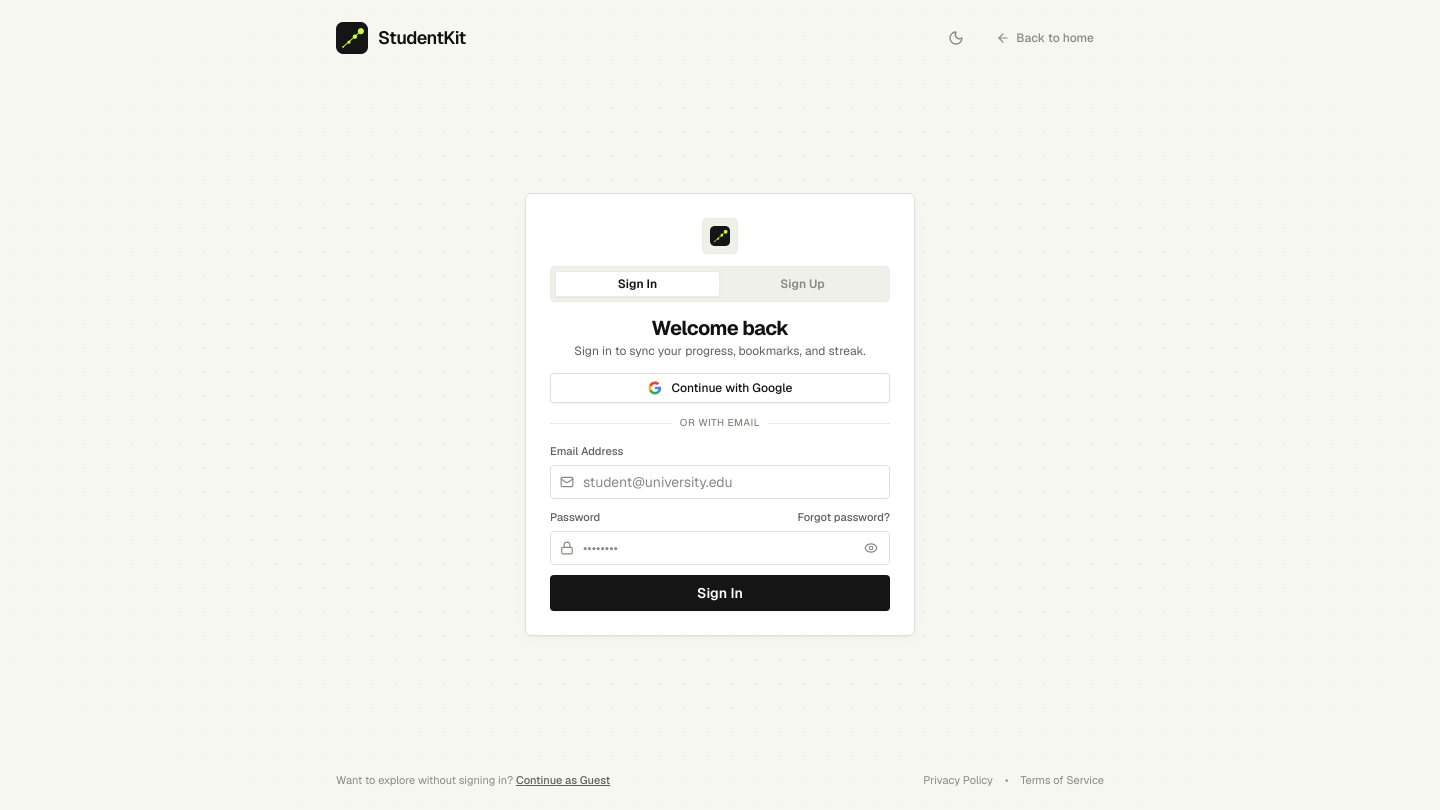
Test case: LoginForm Component › switches to forgot password mode and back
This screenshot has width=1440, height=810.
Click the button "Forgot password?".
click(844, 518)  # box [797,509,890,527]
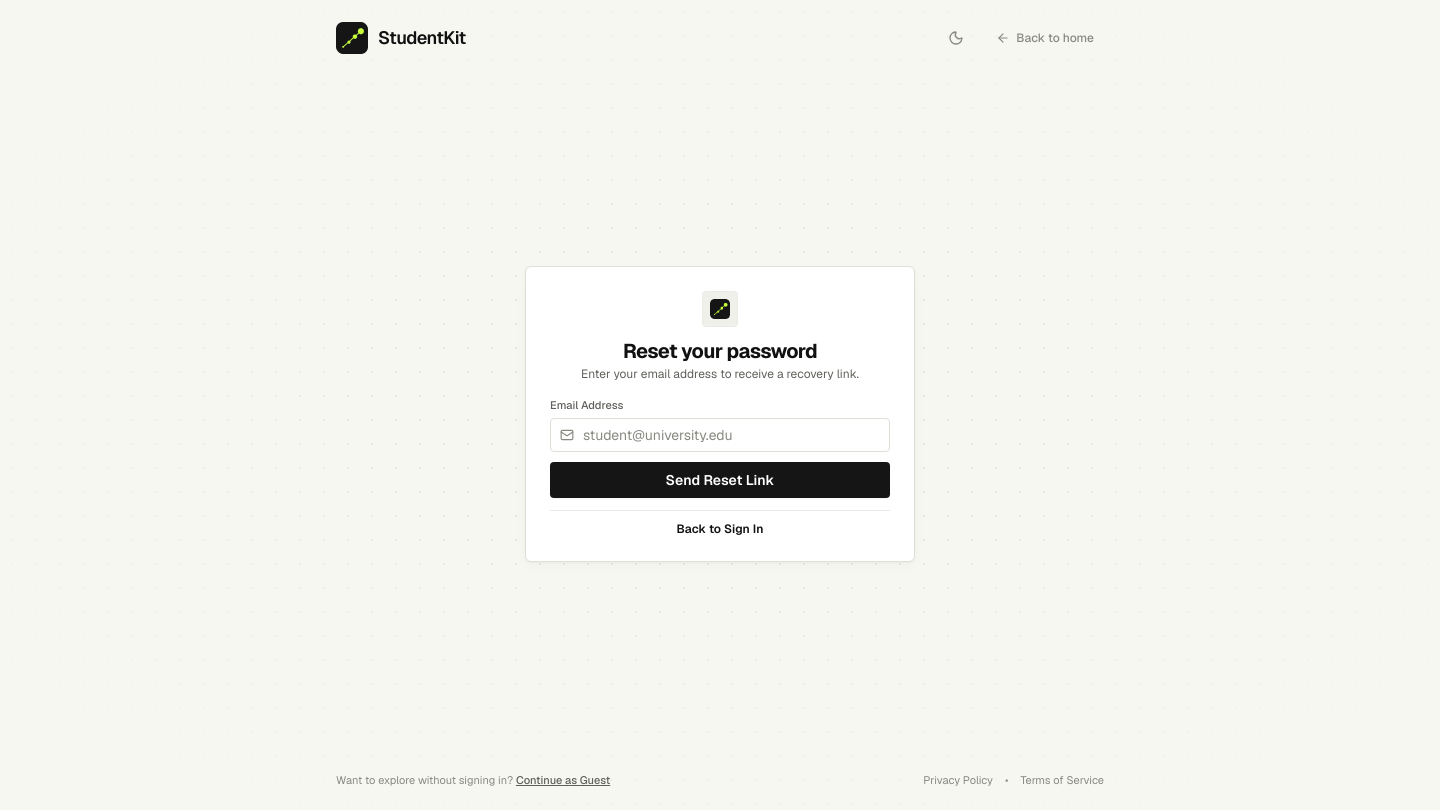
Result: the heading "Reset your password" is shown at [623,338,817,364]
Result: the button "Send Reset Link" is shown at [550,462,890,498]
Result: the password field with placeholder "••••••••" is gone
Click the button "Back to Sign In".
click(720, 529)  # box [677,521,763,537]
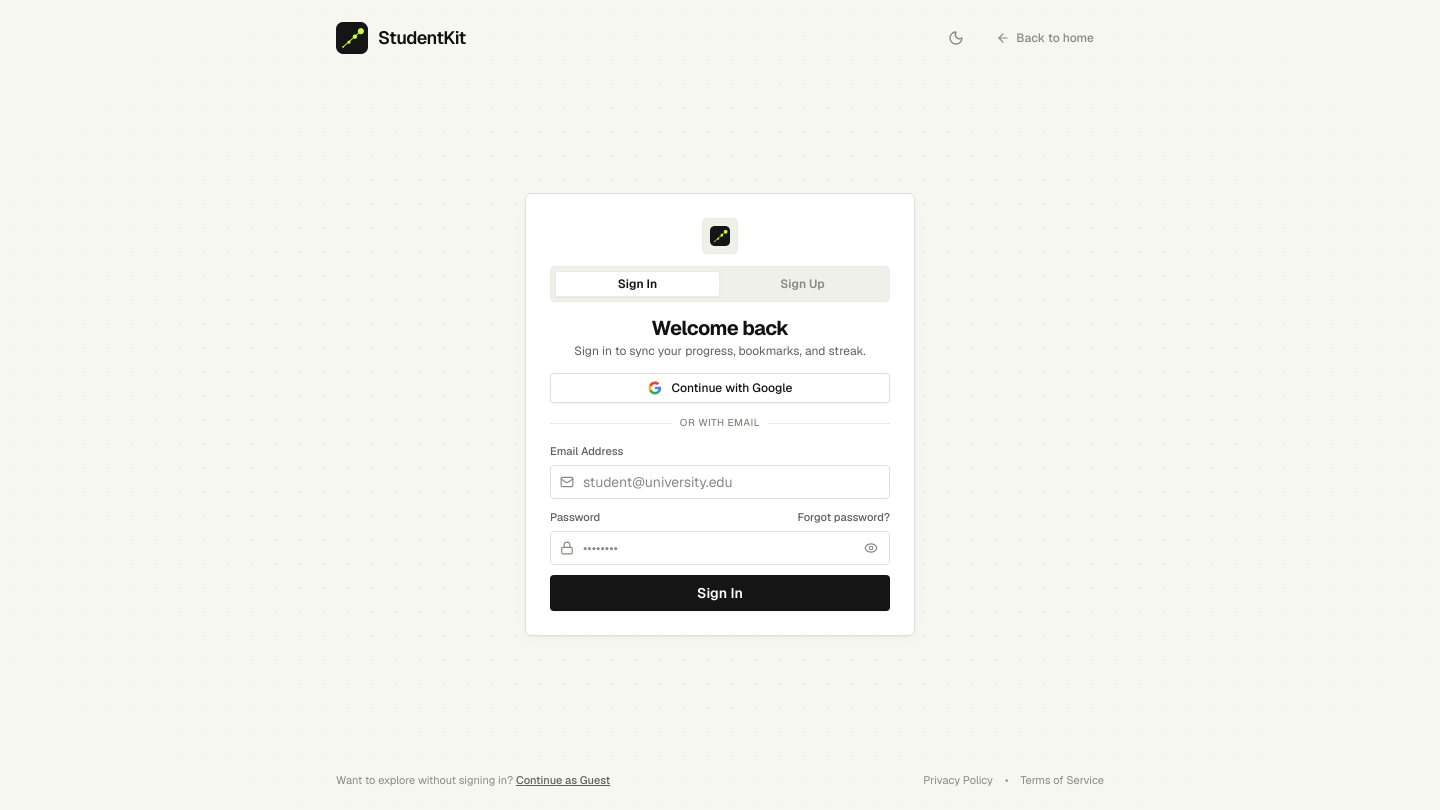
Result: the heading "Welcome back" is shown at [651,315,789,341]
Result: the password field with placeholder "••••••••" is shown at [550,530,890,564]
